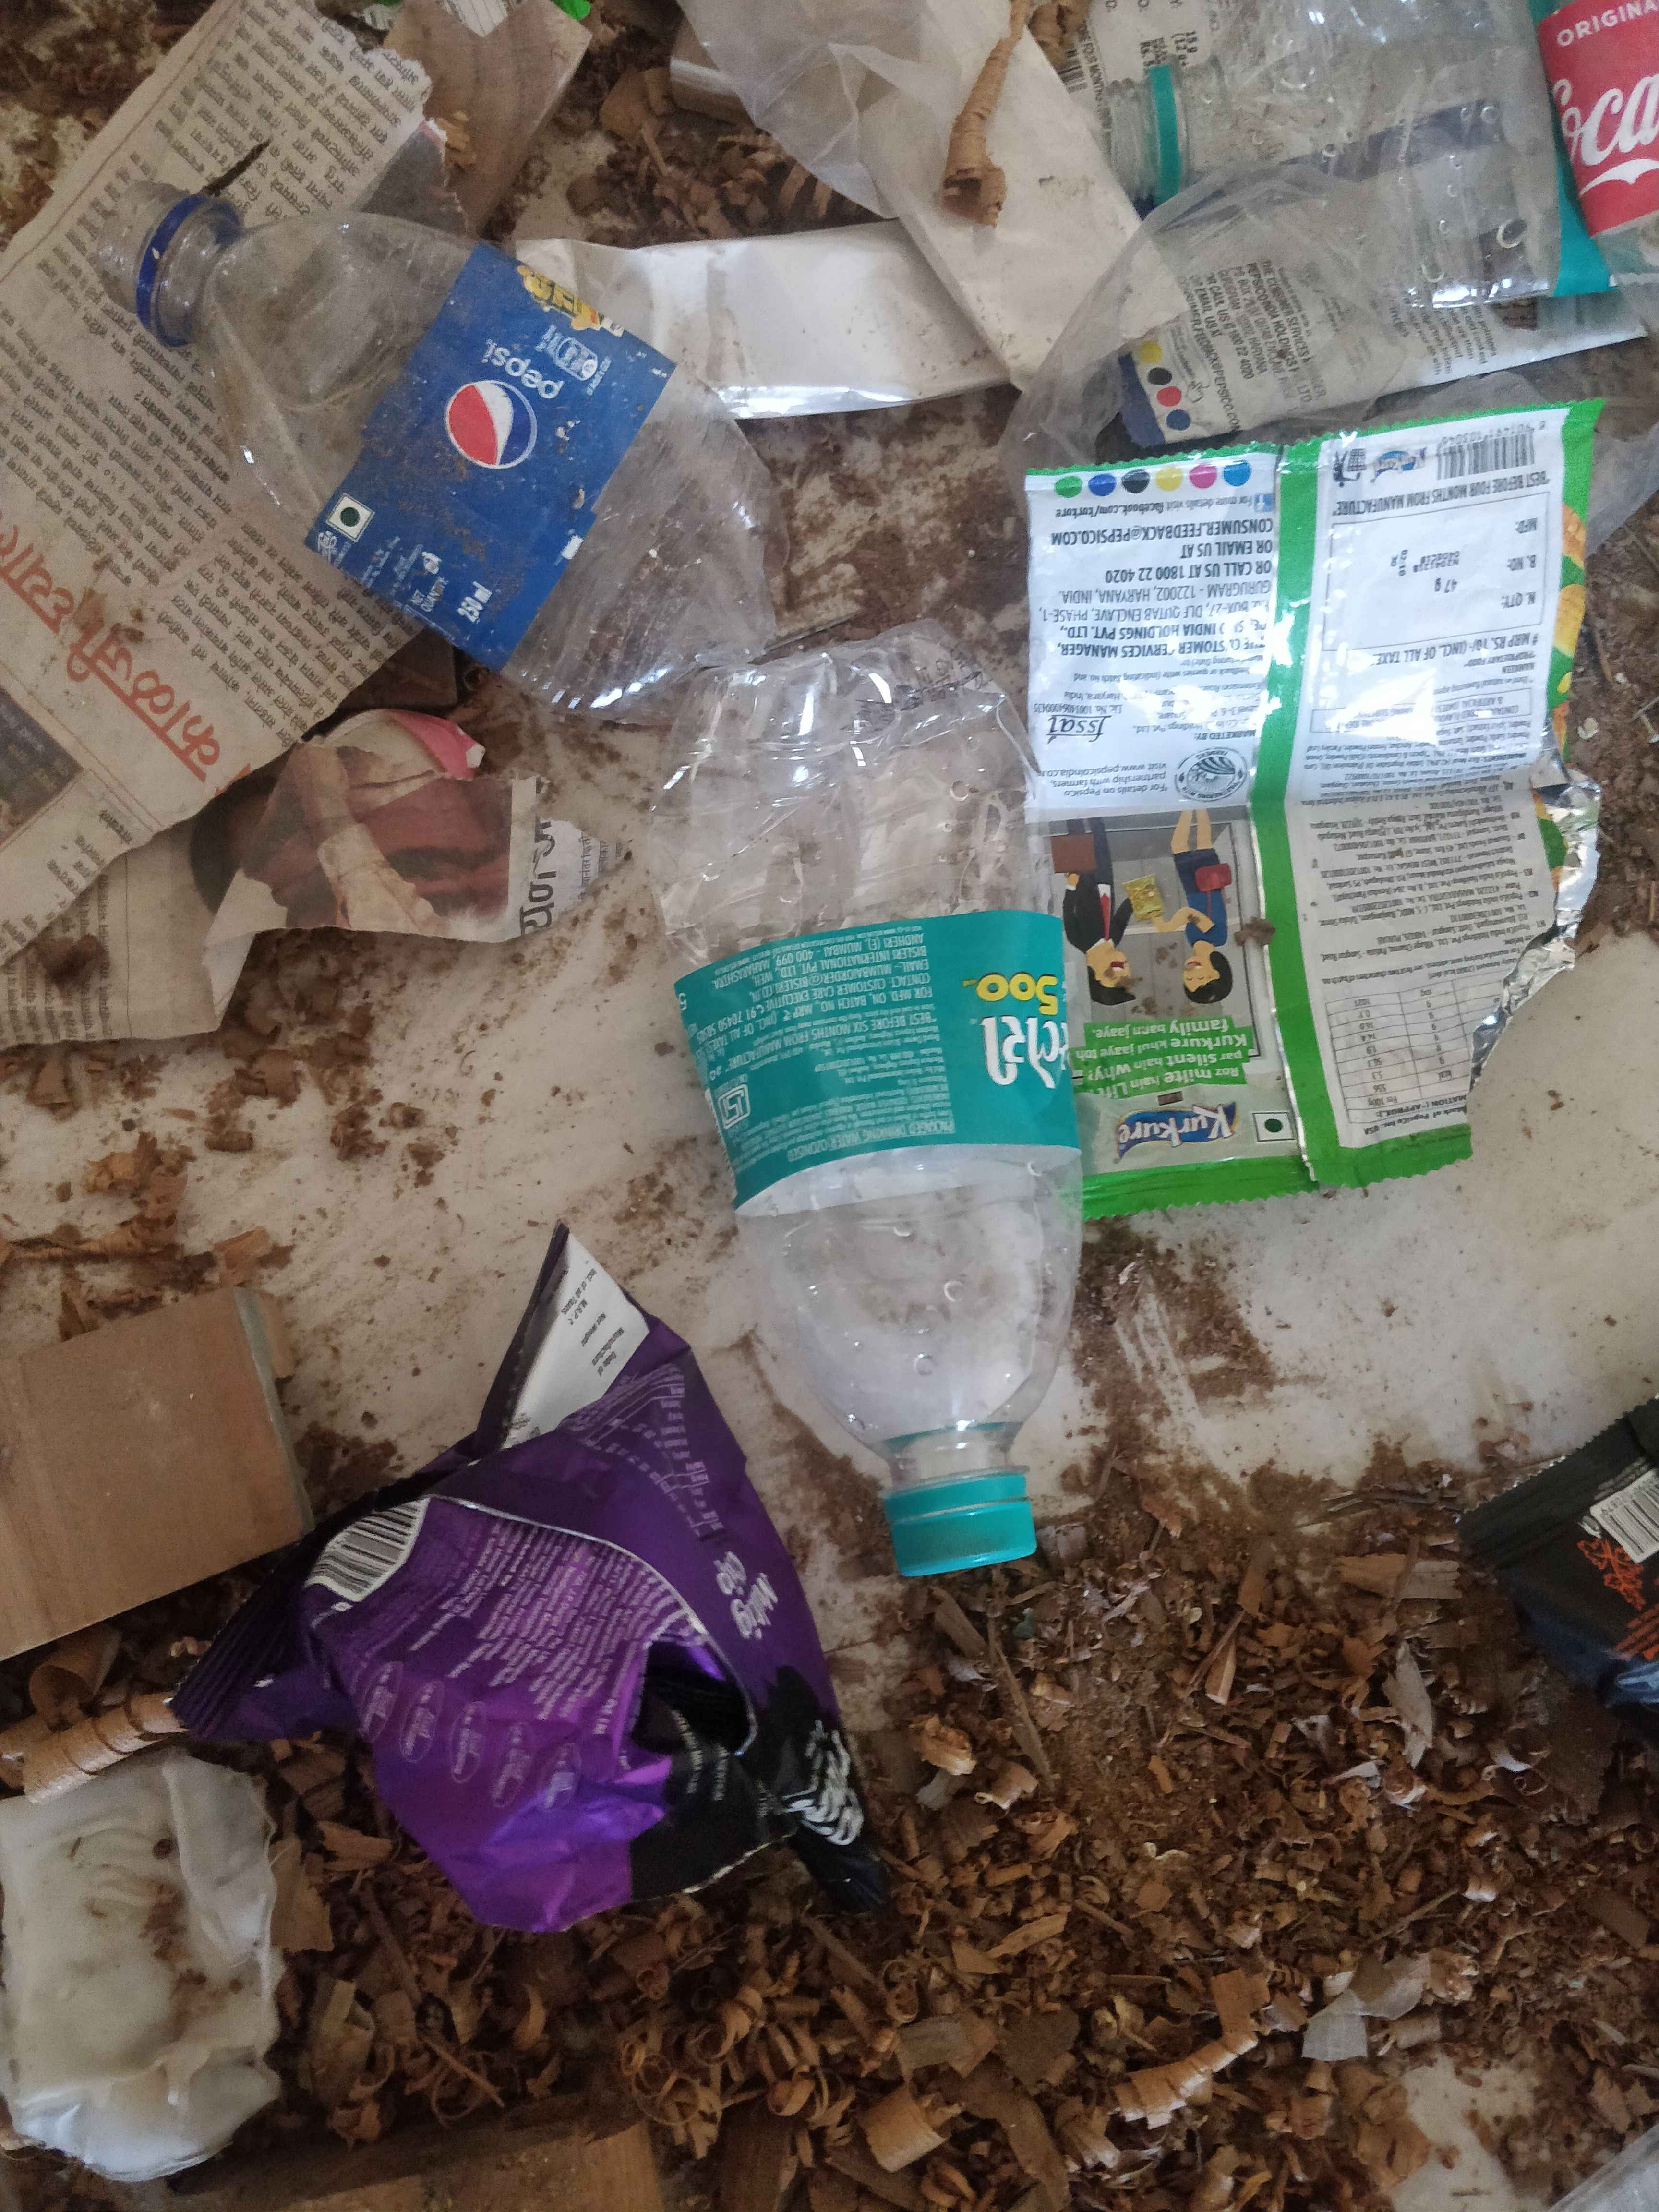Bisleri: (816, 942, 1096, 1137)
Coca-Cola: (1549, 24, 1656, 219)
kurkure: (1087, 1097, 1251, 1165)
pepsi: (373, 305, 620, 503)
tooyumm: (748, 1689, 864, 1848)
